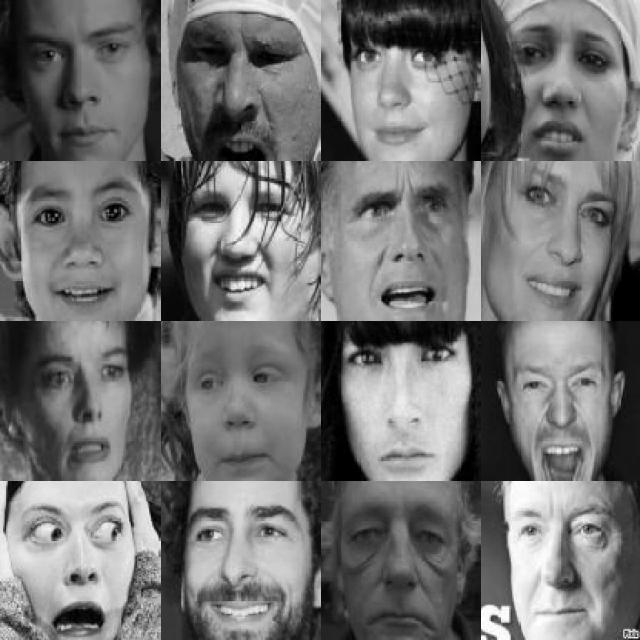anger: (174, 14, 311, 160), (19, 333, 145, 482), (503, 328, 623, 480)
fear: (12, 493, 143, 636), (343, 172, 463, 321)
happy: (161, 174, 321, 316), (330, 17, 472, 161), (22, 172, 156, 316), (176, 487, 307, 633), (496, 499, 630, 636), (496, 173, 616, 317)
neutral: (16, 15, 153, 161)
sad: (332, 493, 470, 637), (171, 337, 307, 479), (340, 336, 471, 478), (503, 12, 626, 155)
